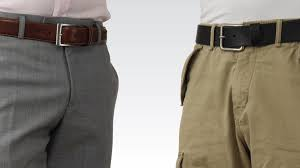F_belt: (1, 12, 119, 56), (186, 13, 300, 49)
